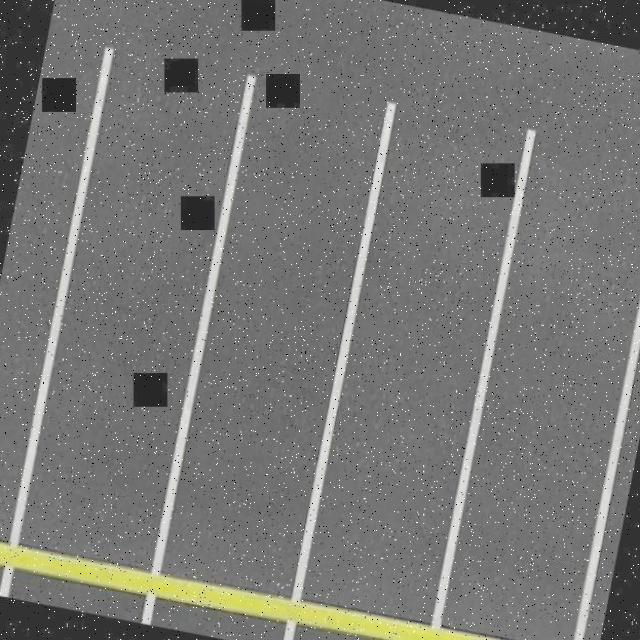empty: (4, 50, 254, 594), (147, 76, 395, 624), (288, 105, 536, 640), (426, 130, 640, 640)
